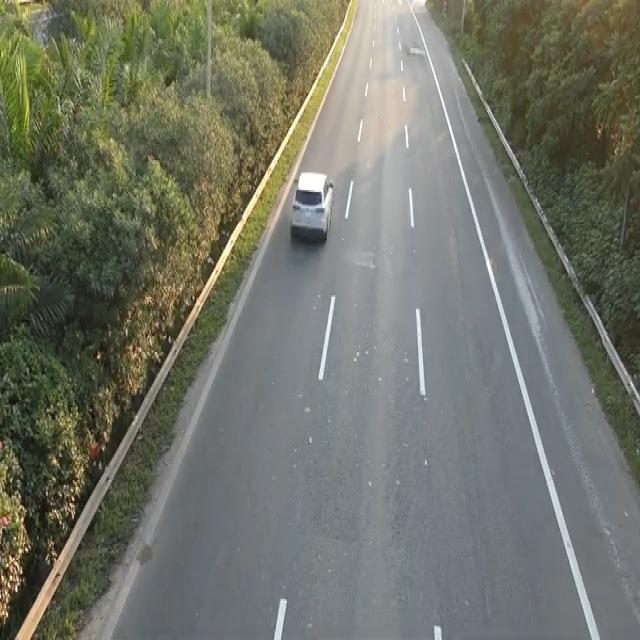car: (288, 167, 335, 244)
